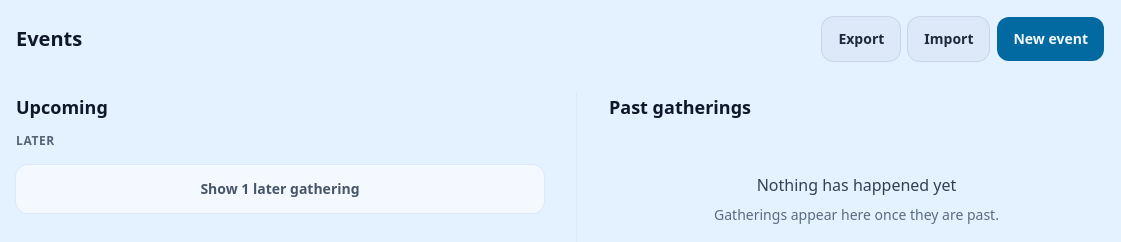
Test: the bands › keeps a retreat past the horizon reachable when nothing is nearer
The image size is (1121, 242).
Click the button "Show 1 later gathering" at (280, 189), box [16,165,544,213]
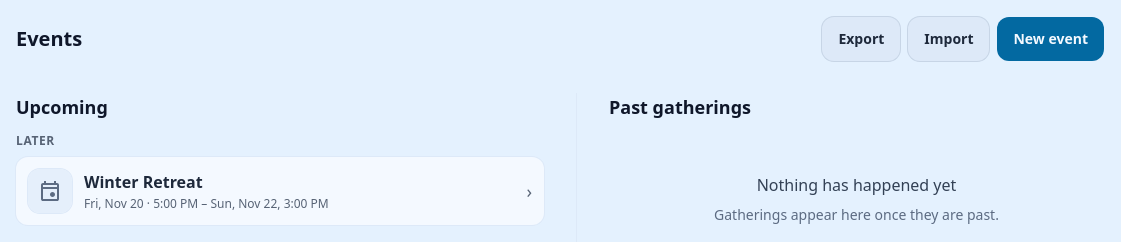
Now the text "Winter Retreat" is shown, box [84,171,203,193]
